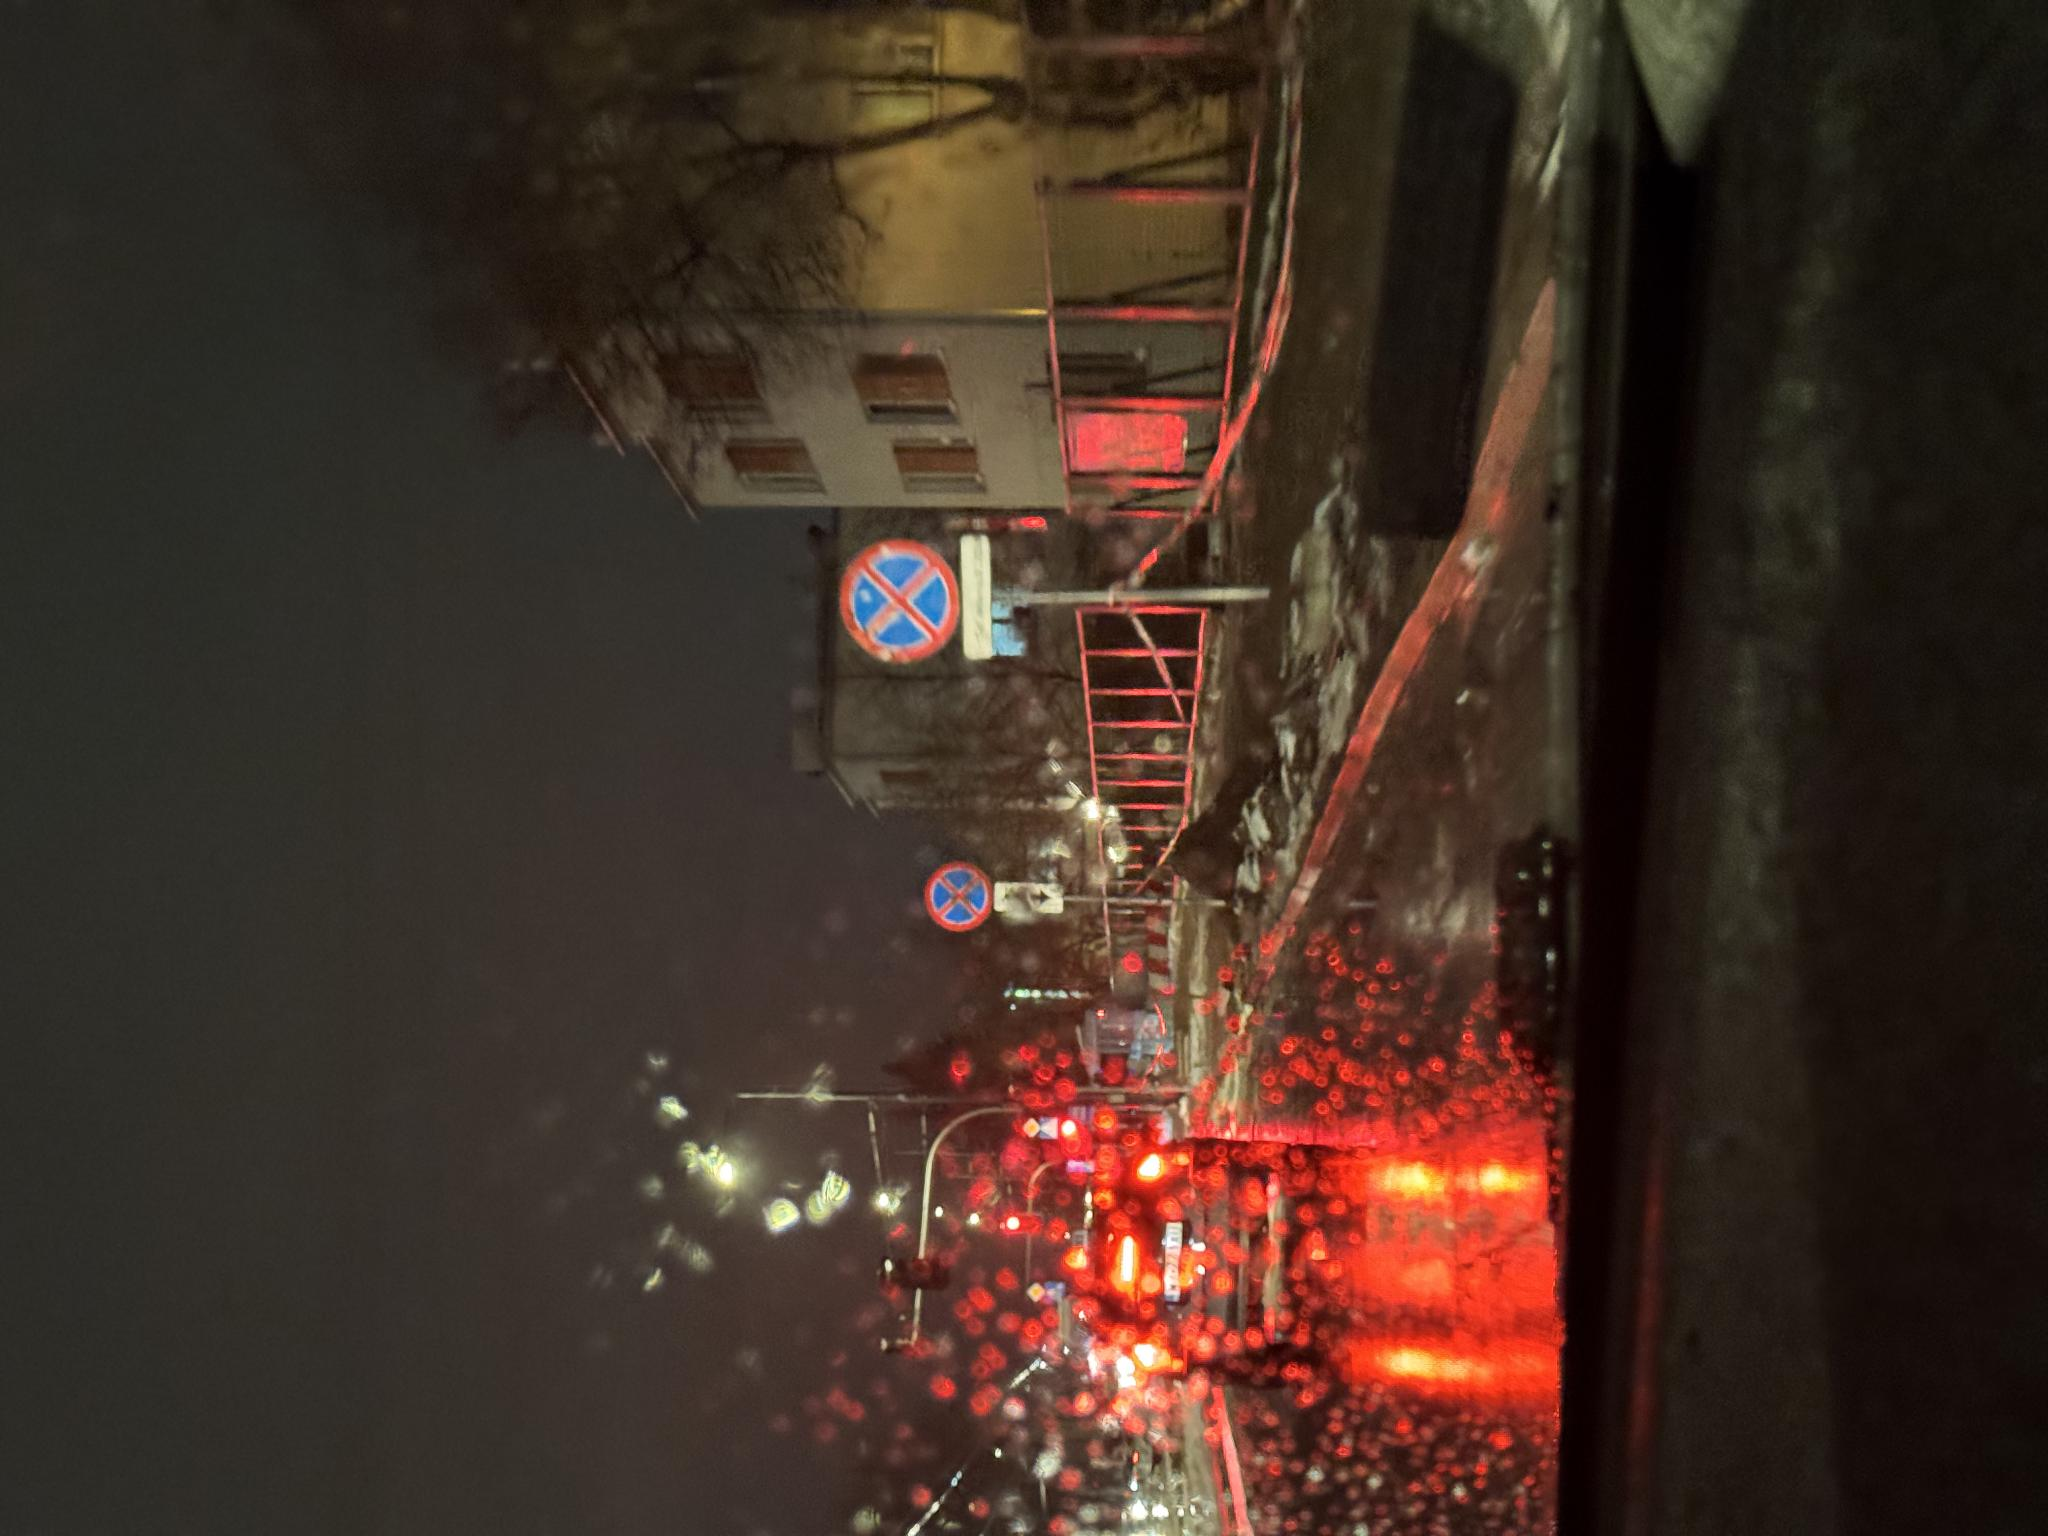prohibitory: (871, 841, 997, 962), (605, 923, 674, 992)
